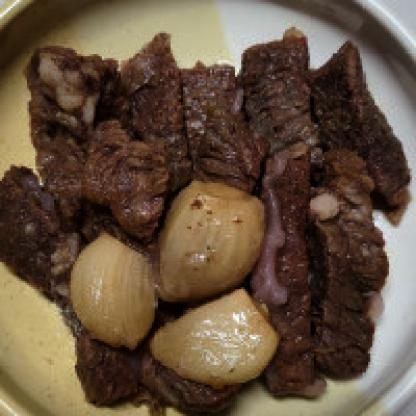Carne: (1, 167, 143, 408), (295, 42, 412, 209), (306, 145, 384, 370), (29, 52, 117, 230), (249, 180, 316, 408), (244, 33, 318, 195), (128, 30, 192, 214), (183, 67, 272, 193), (86, 117, 163, 244)
